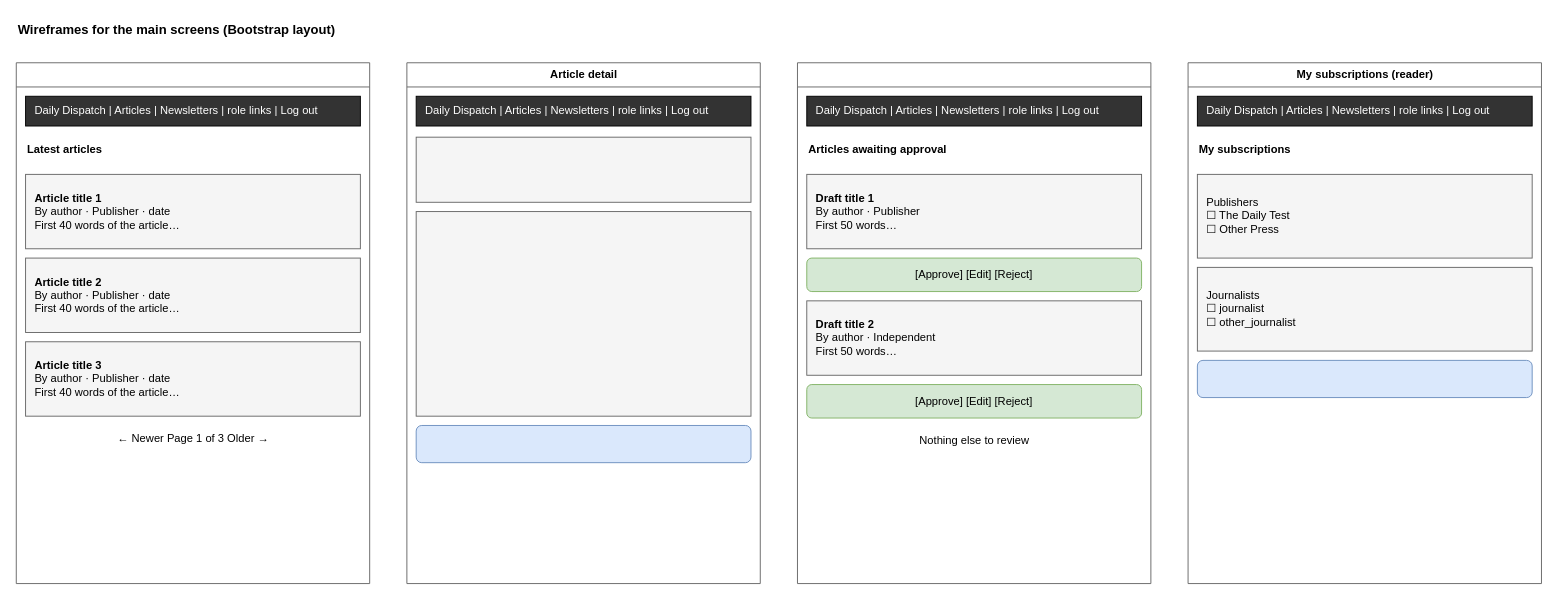
Some shapes in this 1558 by 600 pixel diagram are drawn without their labels. The shapes that lost their labels are listed below. From the top down, each one's box as (x1, y1, x2, y2) in pixels, then its label:
(415, 136, 751, 202): Article title By author · Publisher · date · [Awaiting approval]
(15, 62, 370, 584): Article list (all roles)
(415, 211, 751, 416): Full article text … … …
(797, 62, 1151, 584): Review queue (editor)
(1196, 359, 1532, 398): [Save subscriptions]
(415, 425, 751, 463): [Edit] [Delete] (author or editor only)
